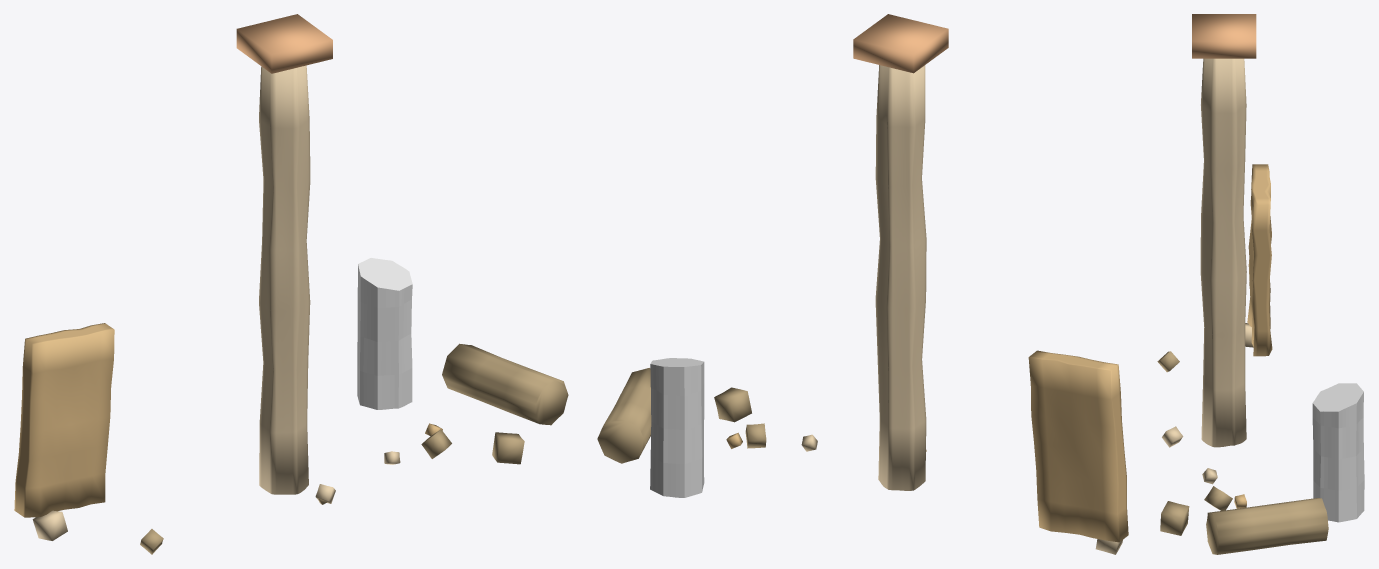
The model's file is builder-structures.glb.
The picture shows the model from 3 angles, left to right: view 1: azimuth 30°, elevation 25°; view 2: azimuth 150°, elevation 25°; view 3: azimuth 270°, elevation 25°; orthographic projection. The views are drawn at different scales.
Parts seen in each view (by area): view 1: builder_tall_pillar, builder_half_wall, builder_broken_column, builder_fallen_segment, builder_pillar_cap, builder_rubble_2, builder_rubble_1; view 2: builder_tall_pillar, builder_half_wall, builder_broken_column, builder_pillar_cap, builder_fallen_segment, builder_rubble_2; view 3: builder_tall_pillar, builder_broken_column, builder_fallen_segment, builder_half_wall, builder_pillar_cap, builder_rubble_2, builder_rubble_3, builder_rubble_7, builder_rubble_0.
Part boxes in pixels (x1,y1,x2,y2): builder_tall_pillar: (259,65,310,494); builder_half_wall: (14,323,114,517); builder_broken_column: (357,258,412,409); builder_fallen_segment: (442,343,568,425); builder_pillar_cap: (236,14,332,73); builder_rubble_2: (492,432,524,464); builder_rubble_1: (32,510,67,540); builder_tall_pillar: (875,65,926,490); builder_half_wall: (1028,350,1128,542); builder_broken_column: (650,358,704,497); builder_pillar_cap: (853,14,948,73); builder_fallen_segment: (597,368,651,463); builder_rubble_2: (714,387,751,422); builder_tall_pillar: (1200,58,1246,447); builder_broken_column: (1312,383,1364,522); builder_fallen_segment: (1206,498,1328,554); builder_half_wall: (1247,164,1272,356); builder_pillar_cap: (1192,14,1256,58); builder_rubble_2: (1160,501,1189,535); builder_rubble_3: (1204,486,1232,510); builder_rubble_7: (1162,426,1183,447); builder_rubble_0: (1157,351,1179,372).
Size of the model in its own units: 3.88 by 3.23 by 1.45.
